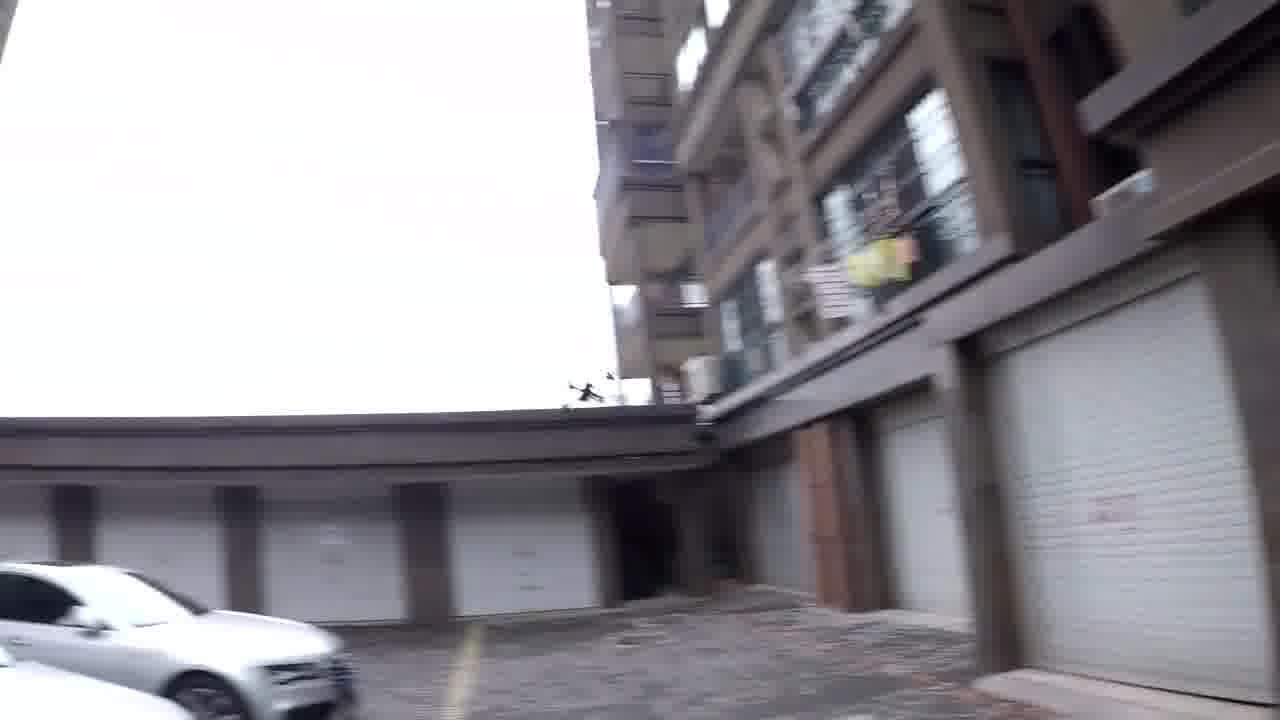drone: (535, 365, 628, 415)
